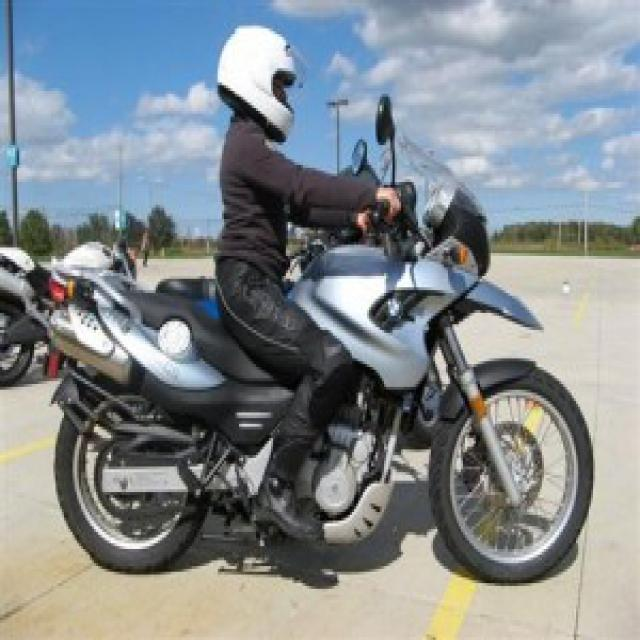helmet: (206, 8, 308, 147)
